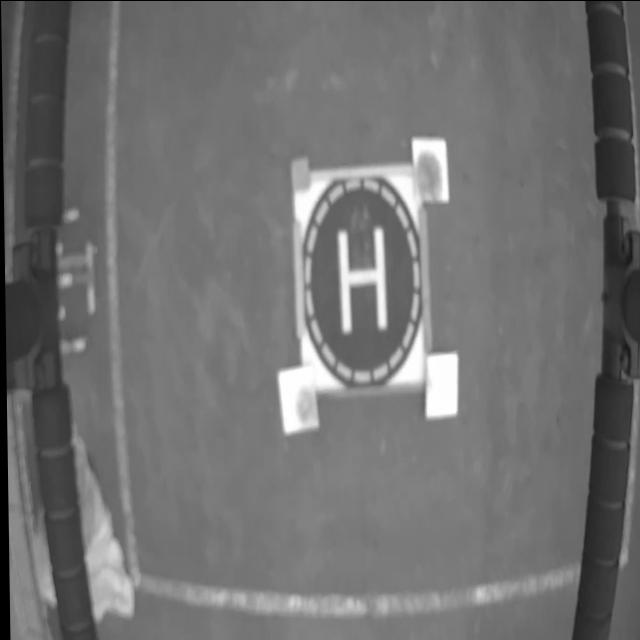Helipad: (336, 223, 387, 331)
